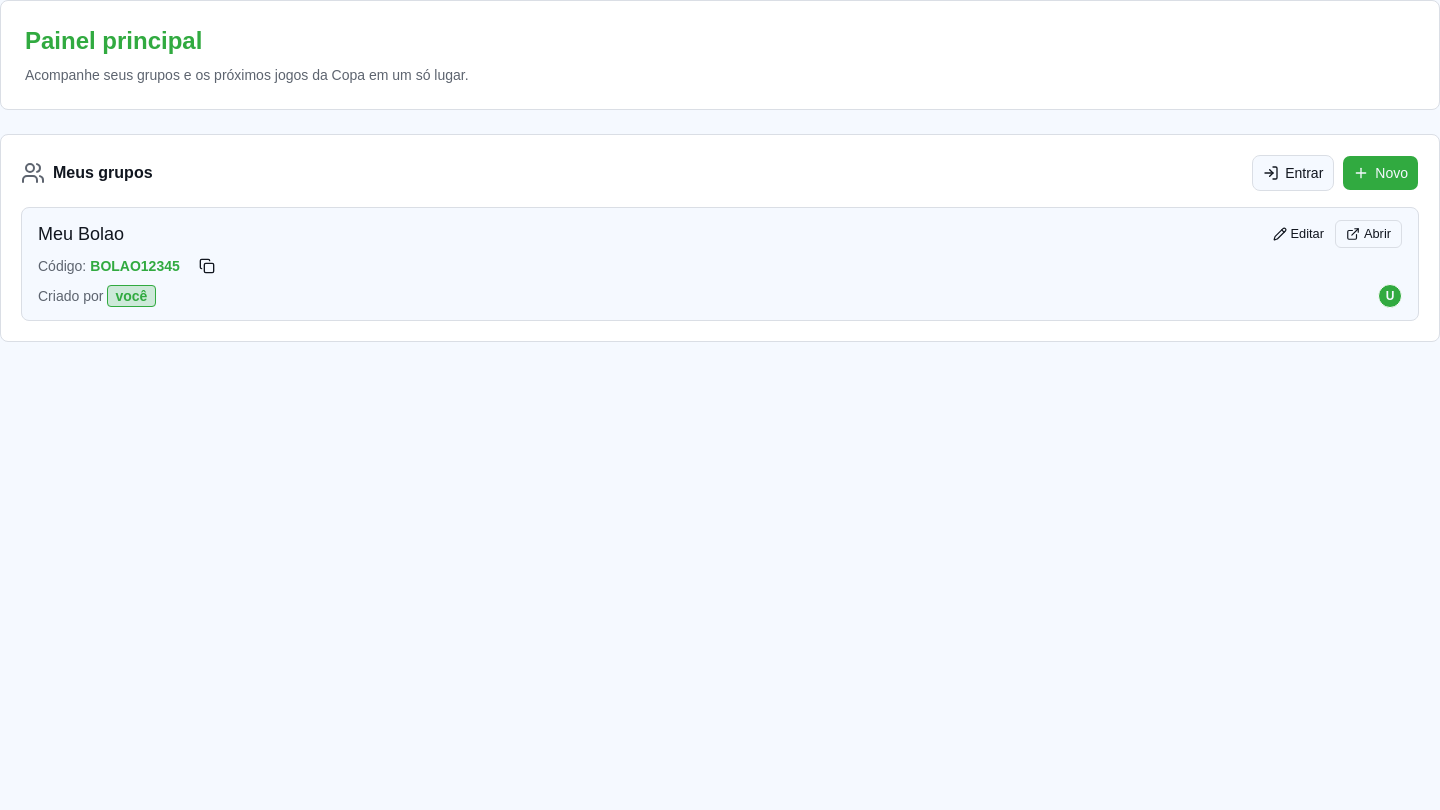
Scenario: HomePage › abre modal de criar bolão ao clicar em Novo
Click the button "Novo" at (1381, 173), box x1=1342 y1=155 x2=1419 y2=191
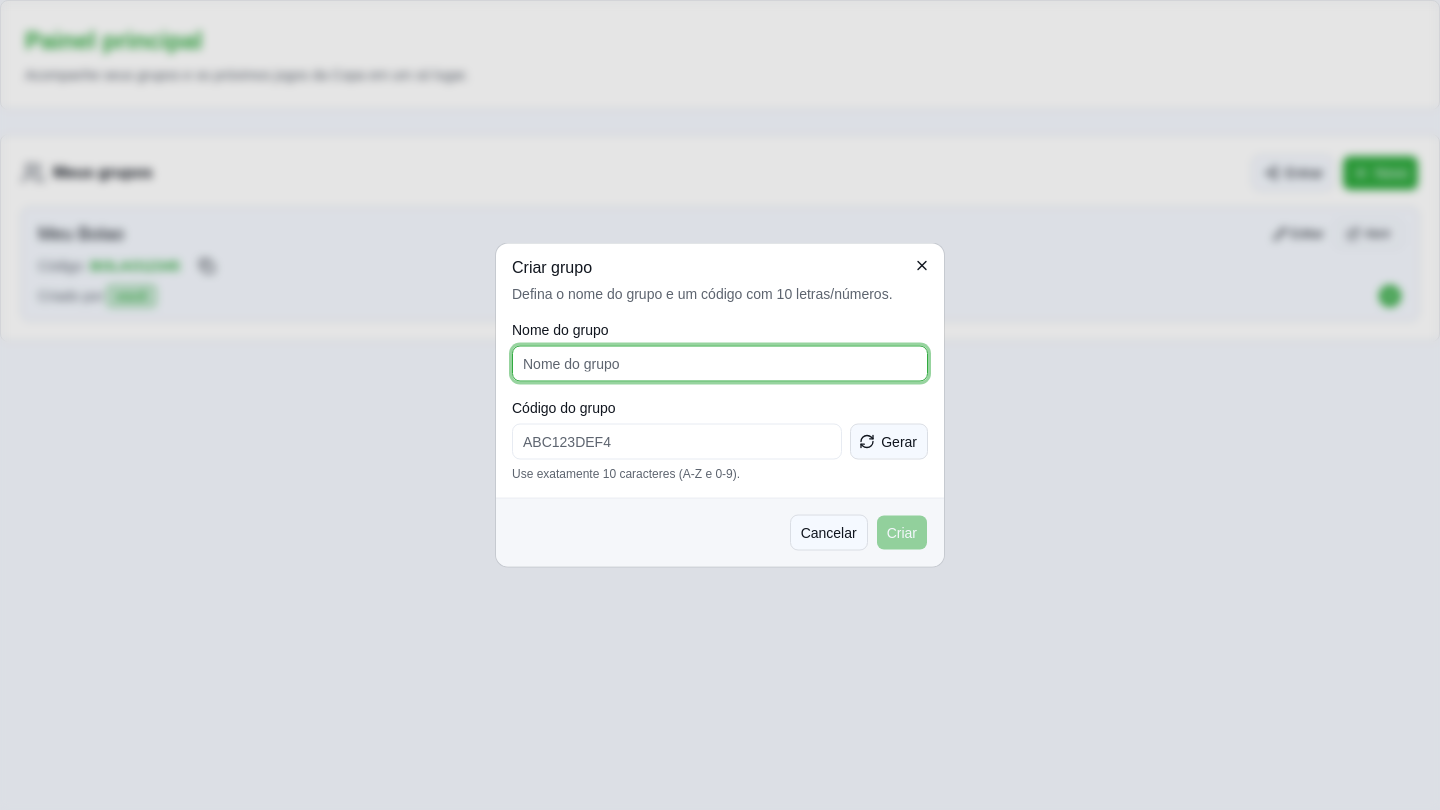
Expected: the heading "Criar grupo" is shown, x1=512 y1=258 x2=592 y2=276
